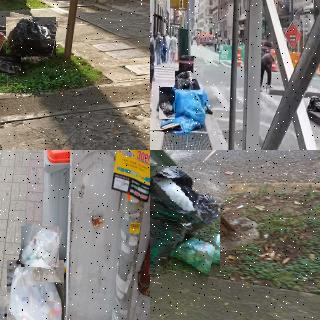Garbage: (150, 160, 224, 279), (6, 259, 64, 320), (5, 15, 58, 57), (20, 224, 61, 269), (174, 88, 208, 126), (160, 87, 176, 119), (0, 54, 21, 74), (175, 70, 192, 92), (187, 77, 201, 92)
